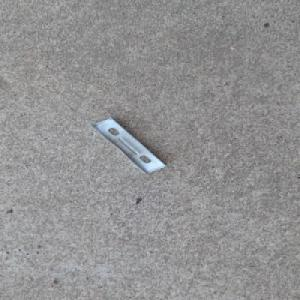ClampPart: (87, 115, 168, 174)
